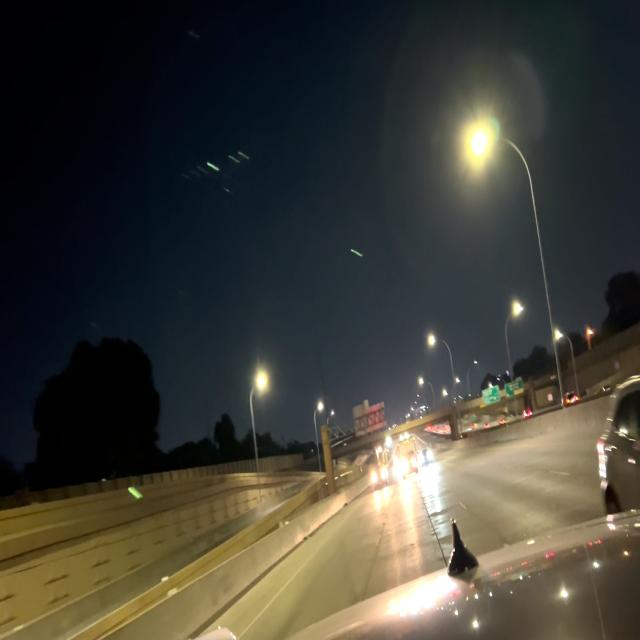back-of-sign: (351, 398, 388, 440)
